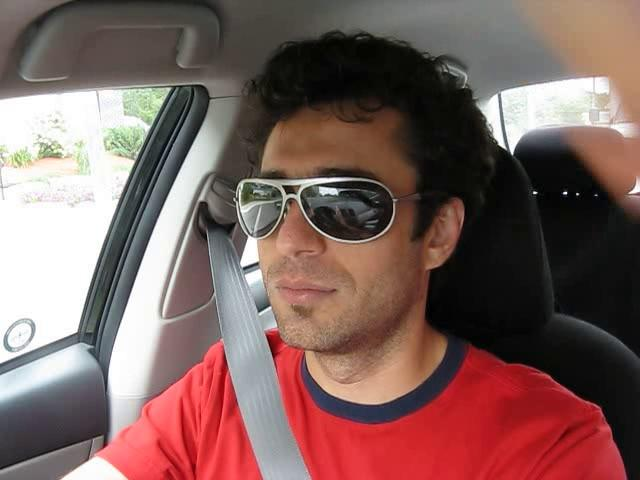no_yawn: (257, 270, 350, 312)
